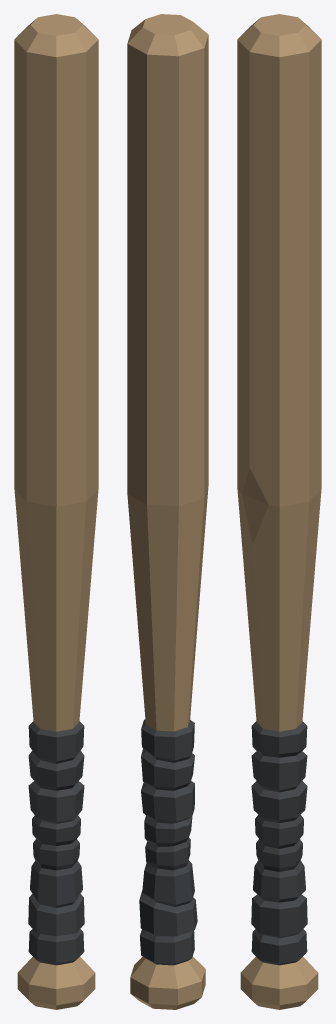
The model's file is Bat_01.fbx.
The picture shows the model from 3 angles, left to right: view 1: azimuth 90°, elevation 25°; view 2: azimuth 150°, elevation 25°; view 3: azimuth 270°, elevation 25°; orthographic projection.
Parts seen in each view (by area): view 1: Bat_01; view 2: Bat_01; view 3: Bat_01.
Part boxes in pixels (<box>): Bat_01: <box>14,14,98,1009</box>; Bat_01: <box>127,14,208,1009</box>; Bat_01: <box>237,14,321,1009</box>.
Size of the model in its own units: 0.081 by 1.03 by 0.081.
